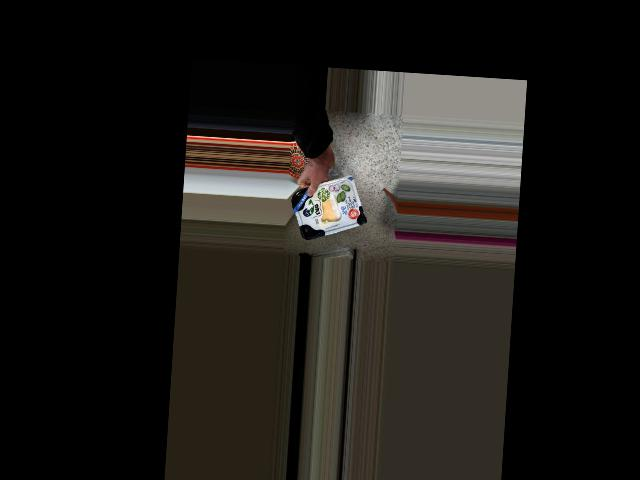cheese: (297, 179, 361, 234)
